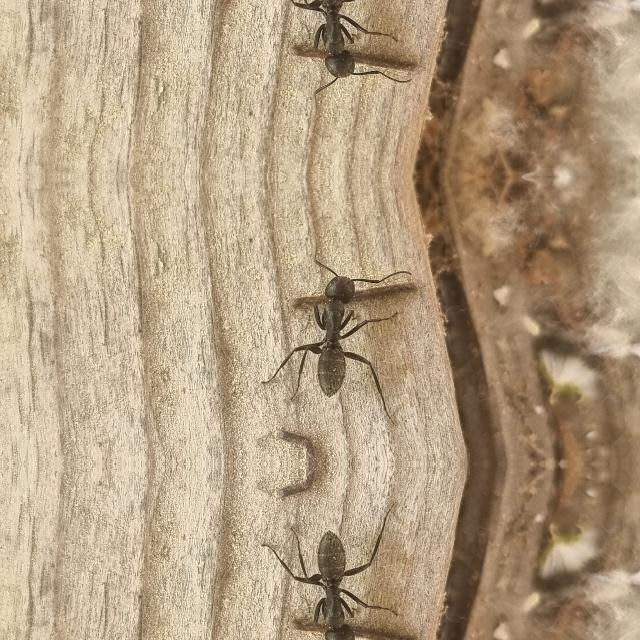Camponotus: (282, 239, 408, 417), (280, 510, 408, 640), (280, 0, 407, 112)
